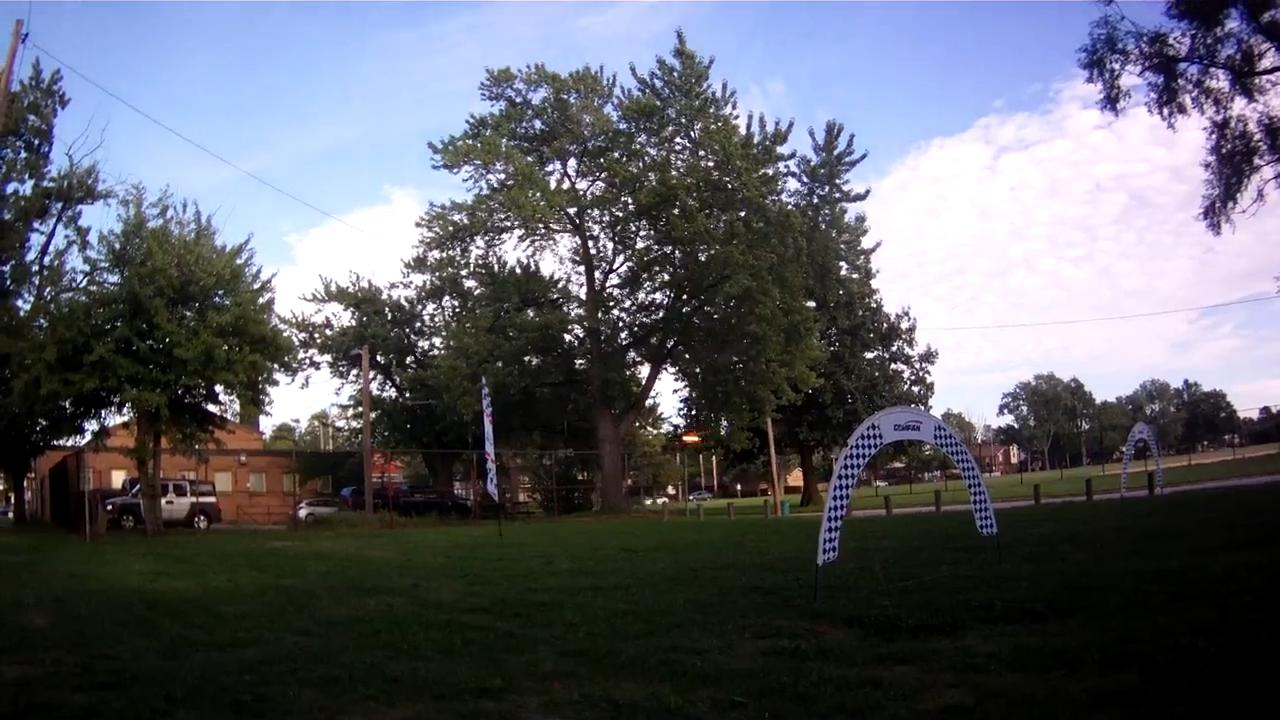gate: (815, 403, 998, 566)
